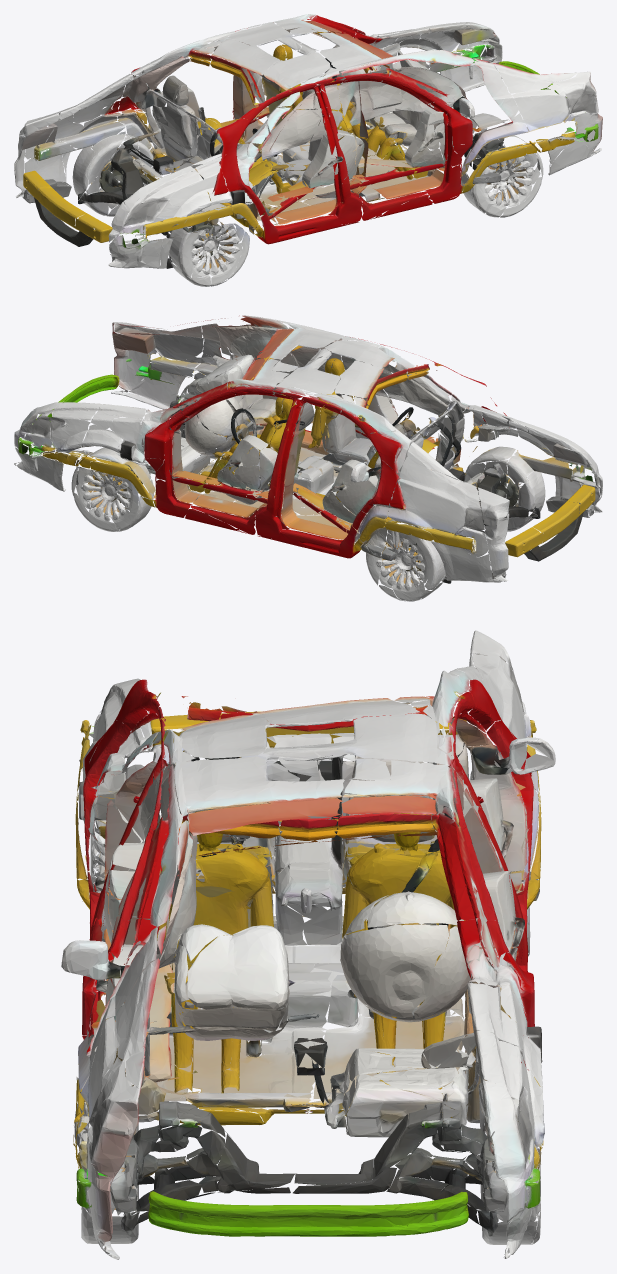
Rendered from safety_structure.glb.
3 renders of one model, top to bottom at view 1: azimuth 30°, elevation 25°; view 2: azimuth 150°, elevation 25°; view 3: azimuth 270°, elevation 25°, orthographic. The views are drawn at different scales.
Parts seen in each view (by area): view 1: safety_body, safety_cage; view 2: safety_body, safety_cage; view 3: safety_body, safety_cage.
Boxes of the visible parts, box(x1,y1,x2,y2) form: safety_body: box(14, 14, 602, 286); safety_cage: box(23, 15, 598, 252); safety_body: box(14, 315, 602, 601); safety_cage: box(18, 337, 595, 567); safety_body: box(61, 630, 555, 1259); safety_cage: box(73, 679, 543, 1236).
Bounding box in the file's own units: 0.9997 × 0.3219 × 0.4251.
Materials: 1 (1 with a texture image).
